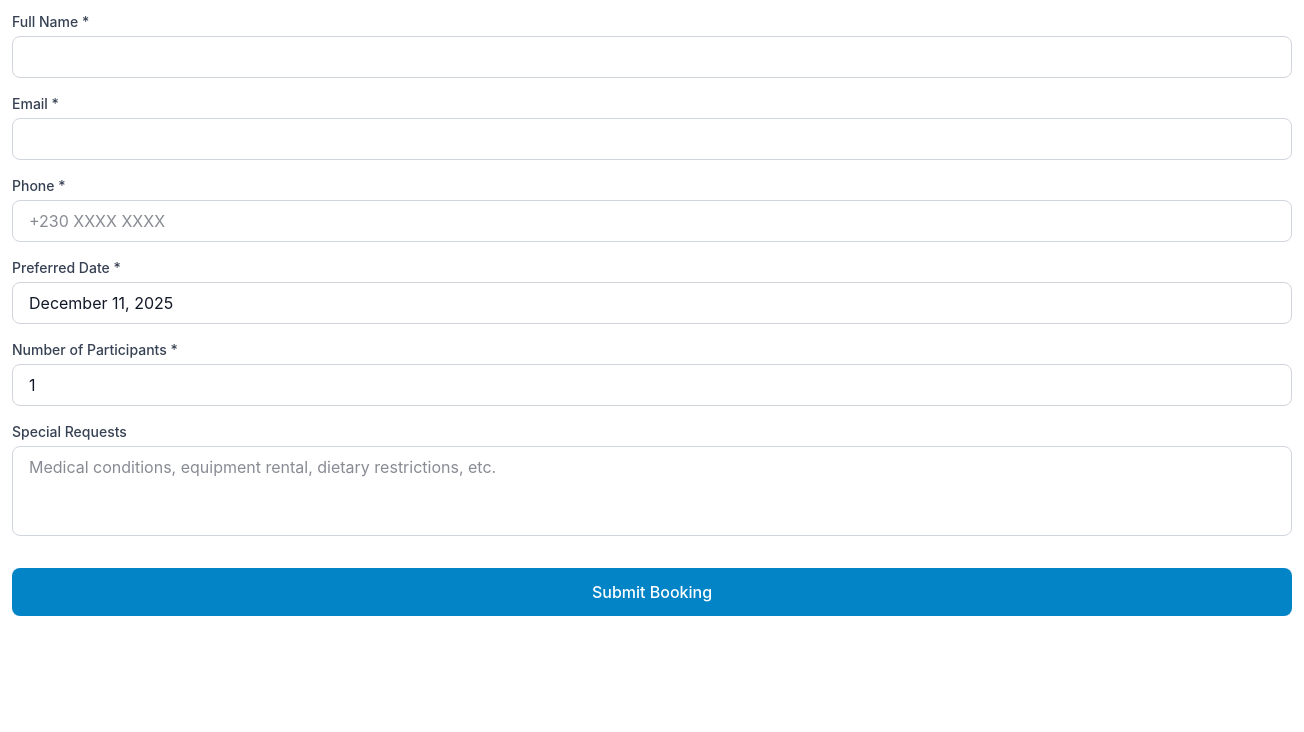
Test: BookingForm › should validate required name field
The image size is (1304, 732).
# Fill other required fields to pass HTML5 validation
Type "test@example.com" into the field labelled "Email *" at (652, 139), box [12, 118, 1292, 160]
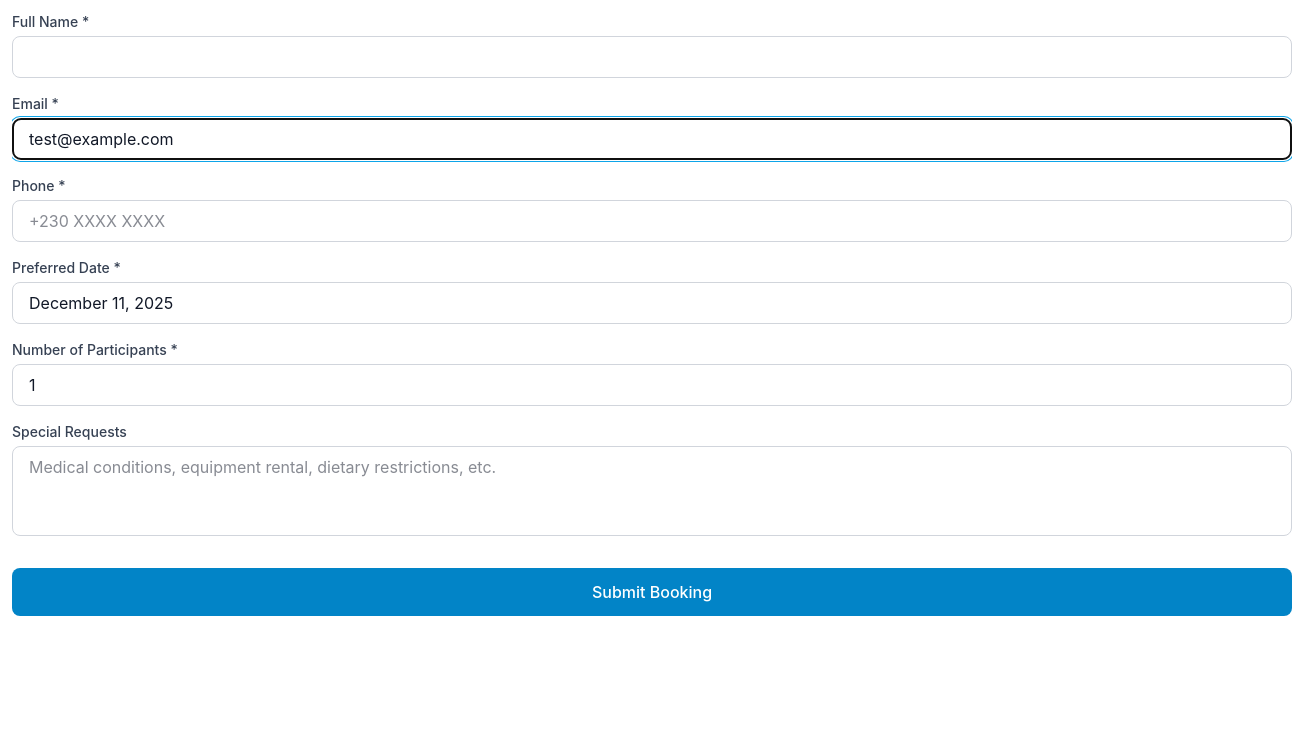
Type "12345678" into the field labelled "Phone *" at (652, 221), box [12, 200, 1292, 242]
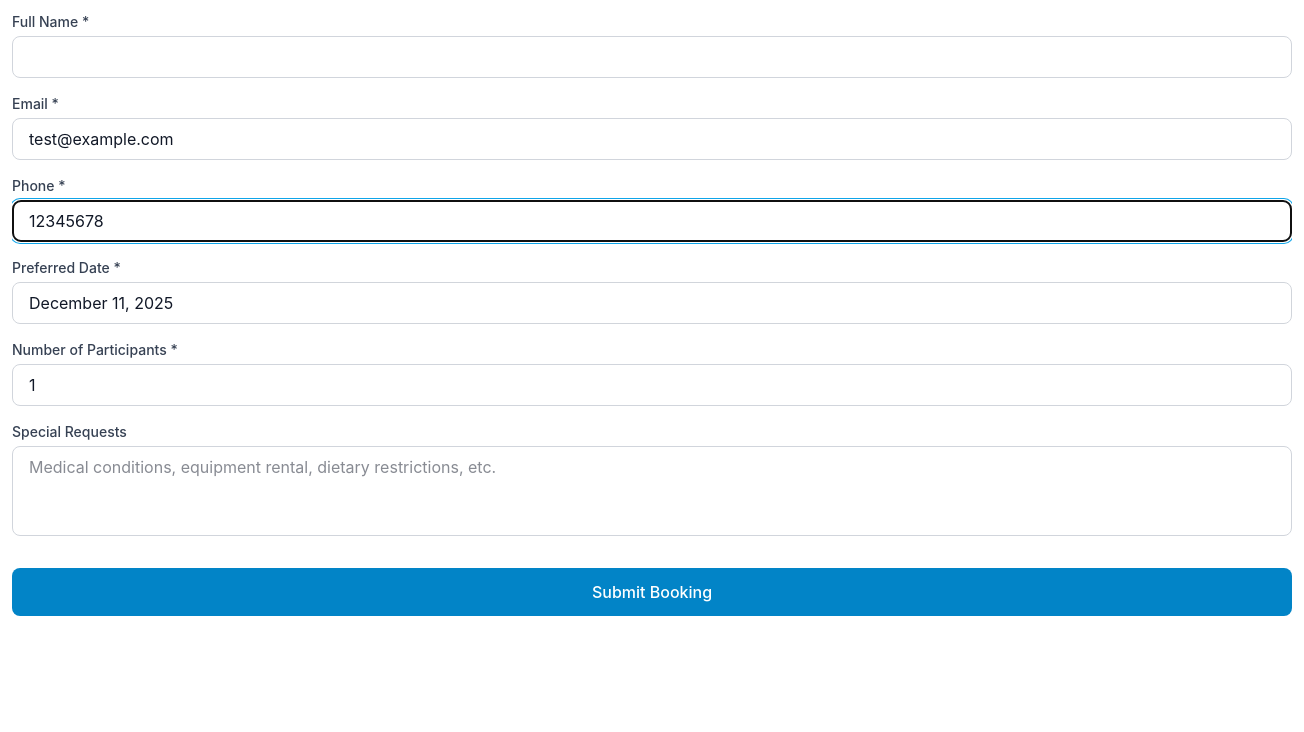
# Leave name with just one character (less than 2)
Type "A" into the field labelled "Full Name *" at (652, 57), box [12, 36, 1292, 78]
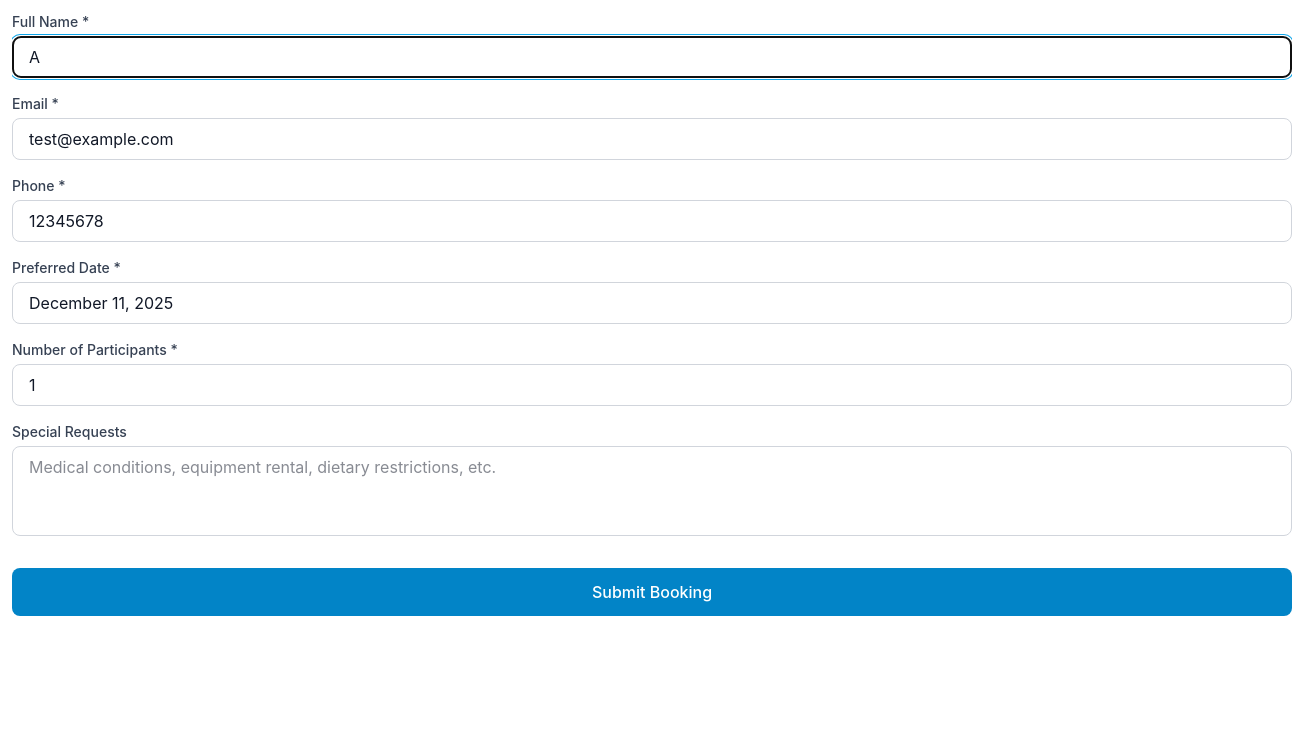
Click the button "Submit Booking" at (652, 592), box [12, 568, 1292, 616]
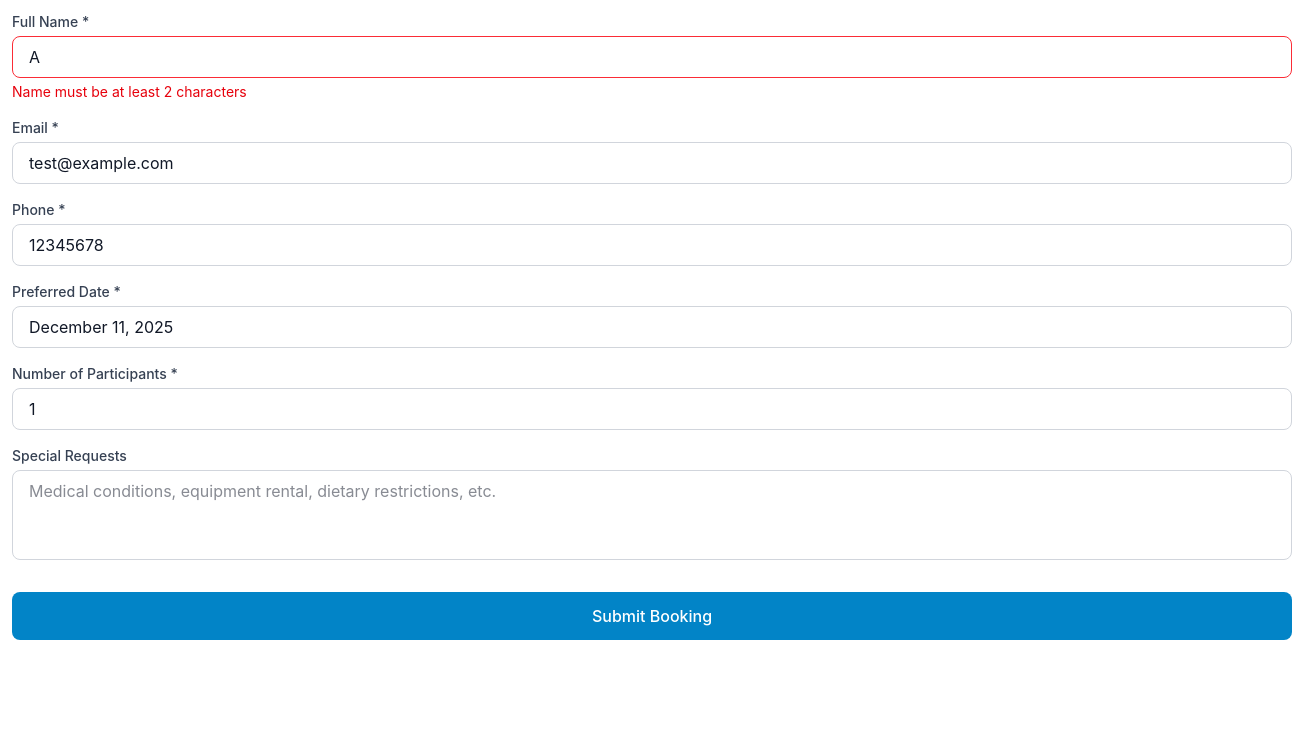
Check: the text "Name must be at least 2 characters" is shown, box [12, 83, 247, 100]
